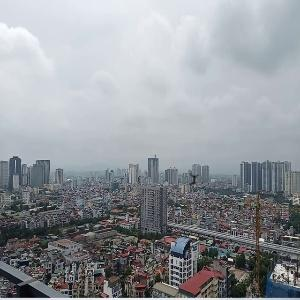drone: (179, 166, 211, 198)
